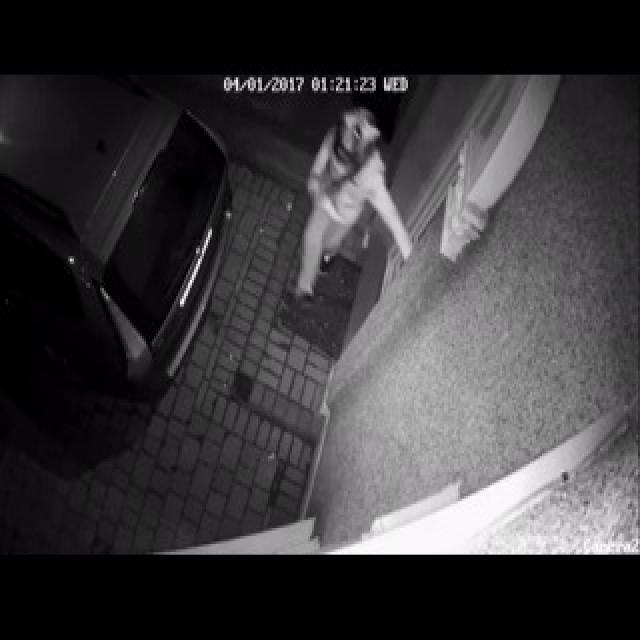thief: (307, 105, 400, 269)
